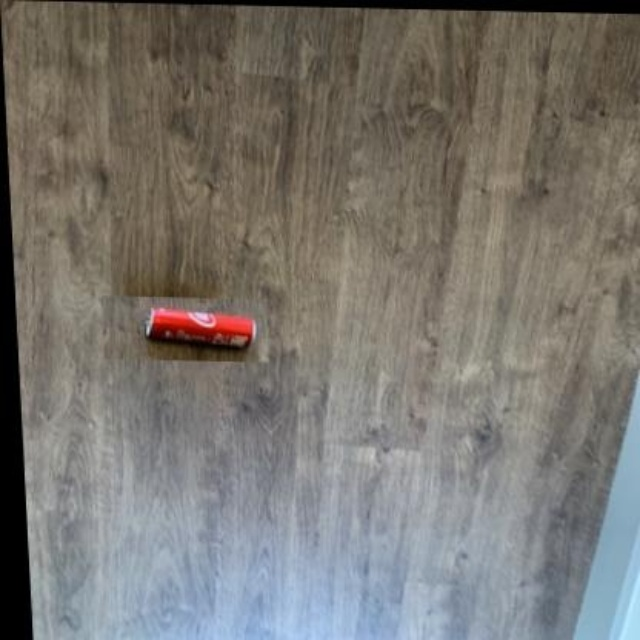trash: (146, 308, 255, 346)
